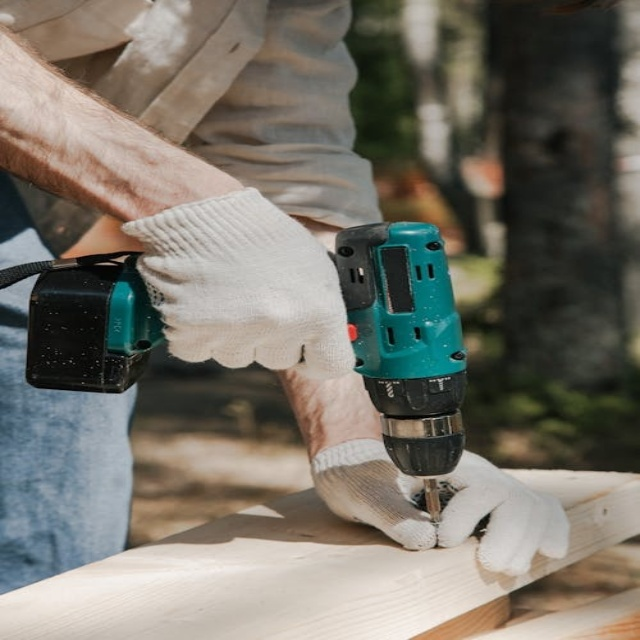Guantes: (118, 188, 362, 378), (311, 438, 570, 576)
